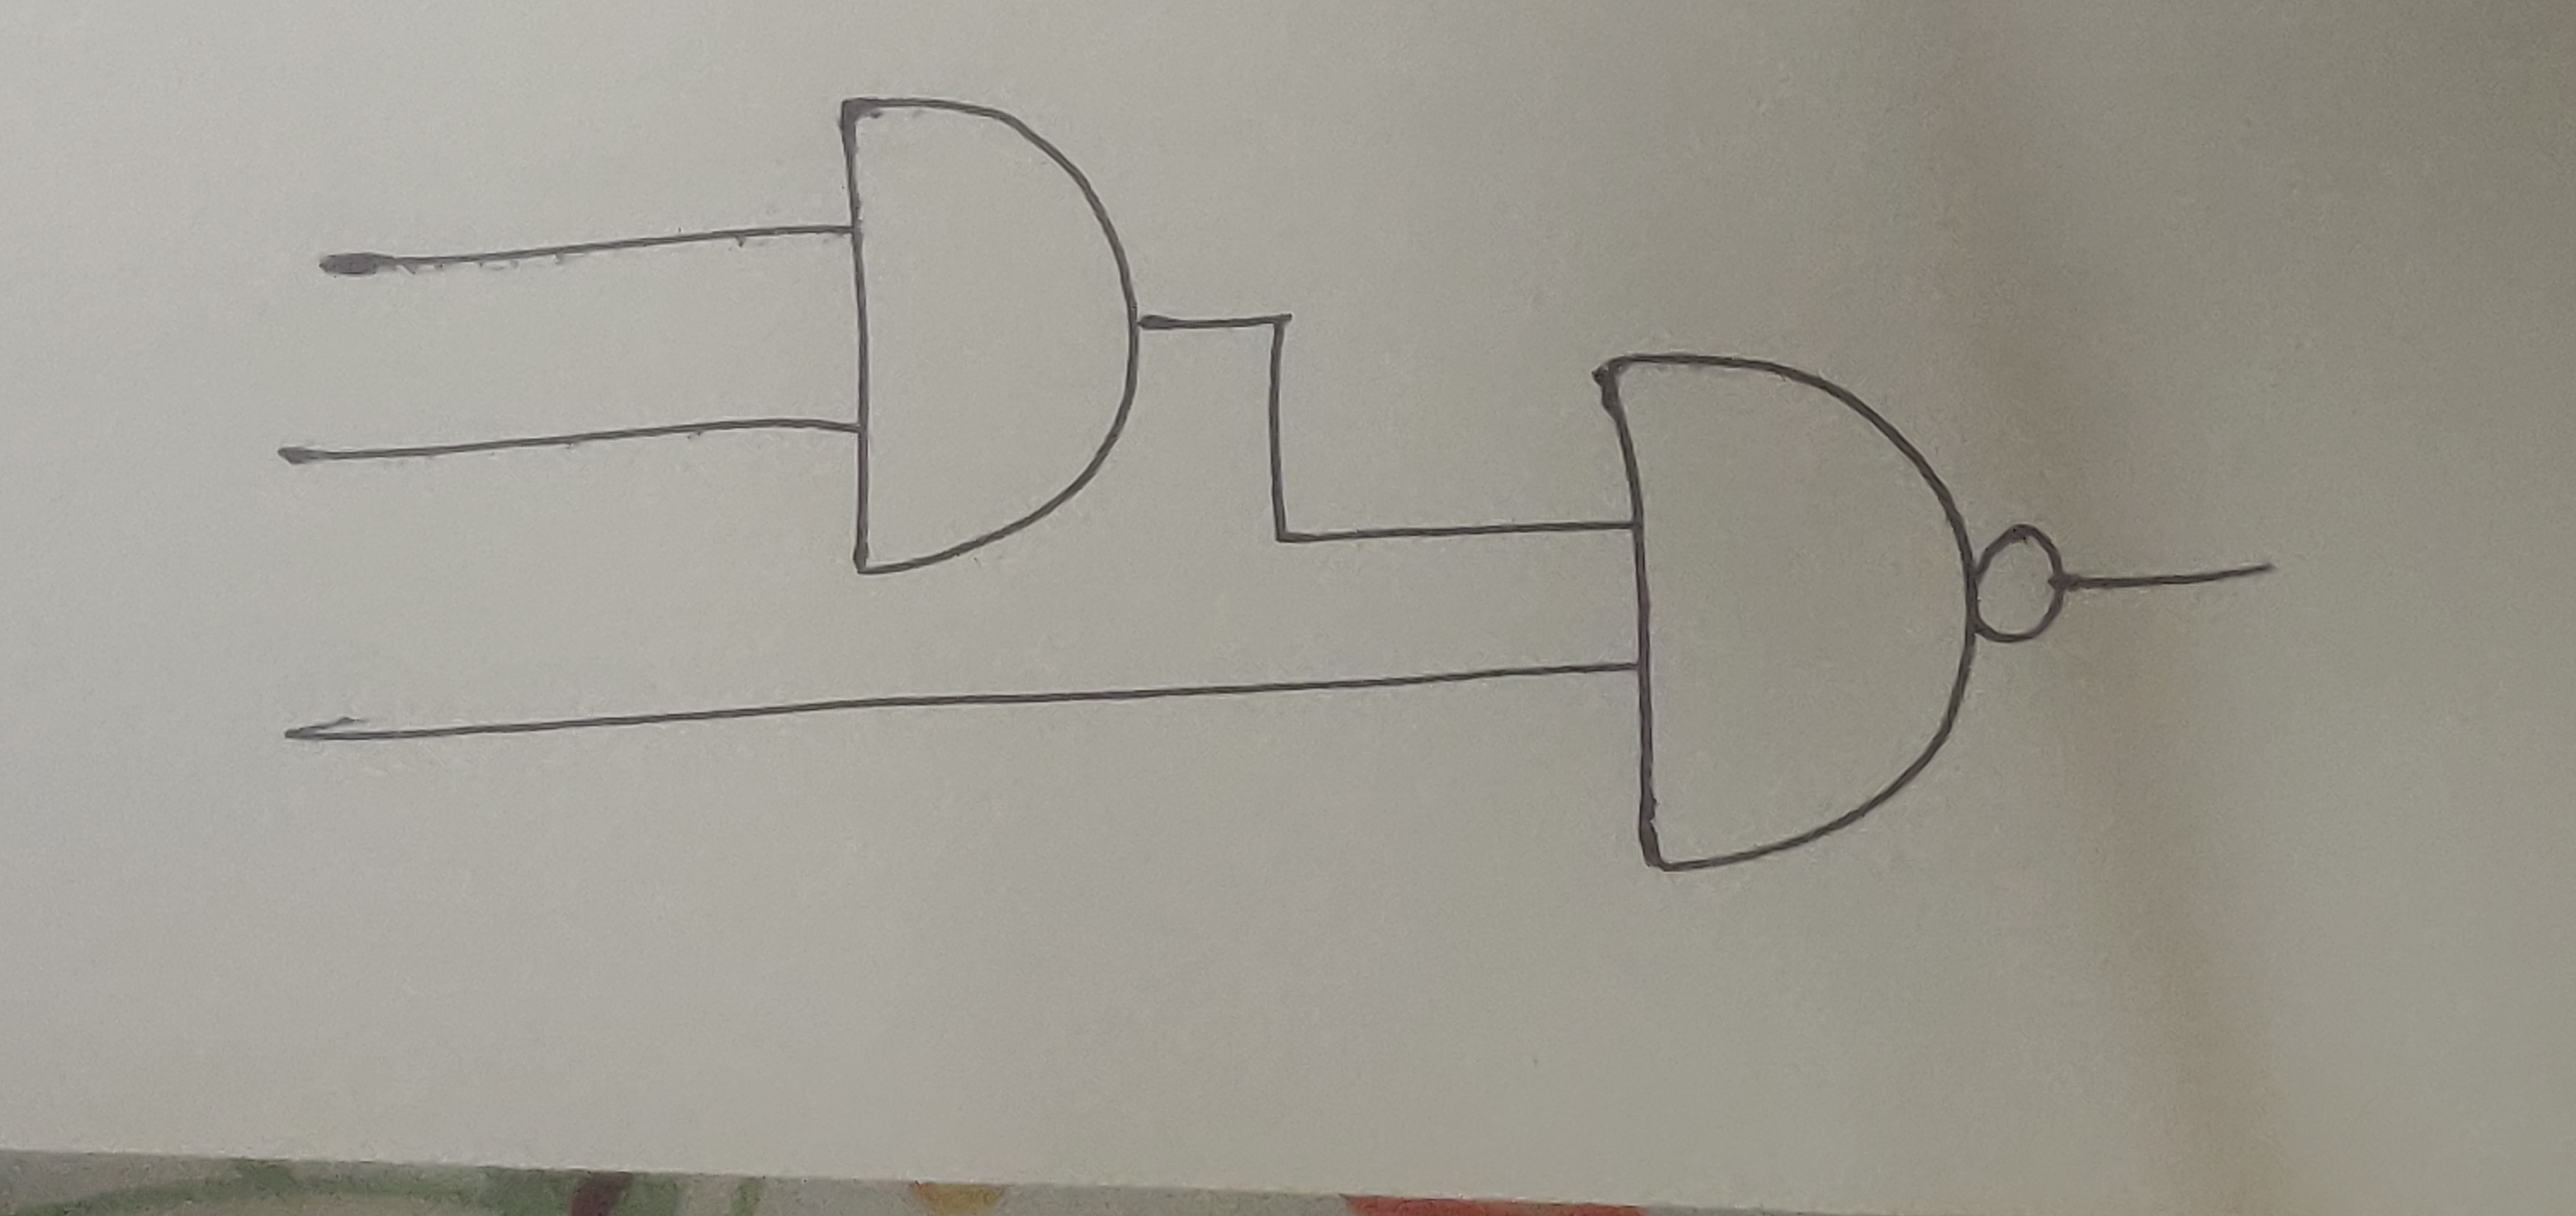and: (1597, 348, 1978, 874), (831, 85, 1143, 582)
not: (1971, 523, 2073, 654)
